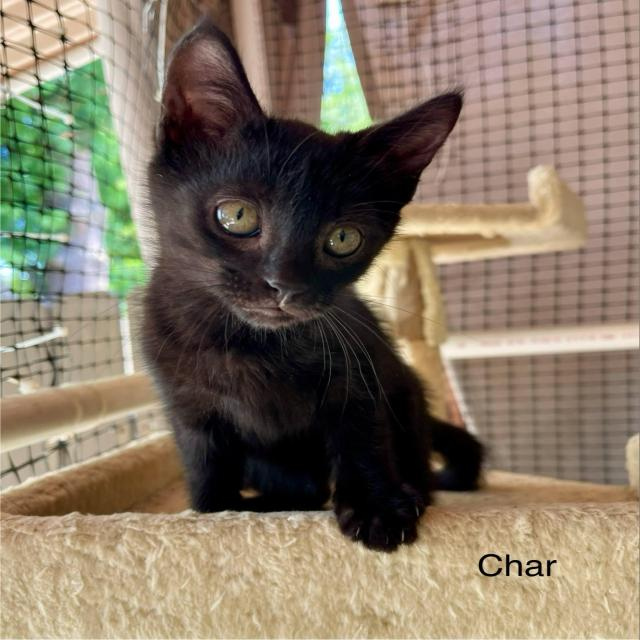bombay_cat: (136, 10, 467, 336)
